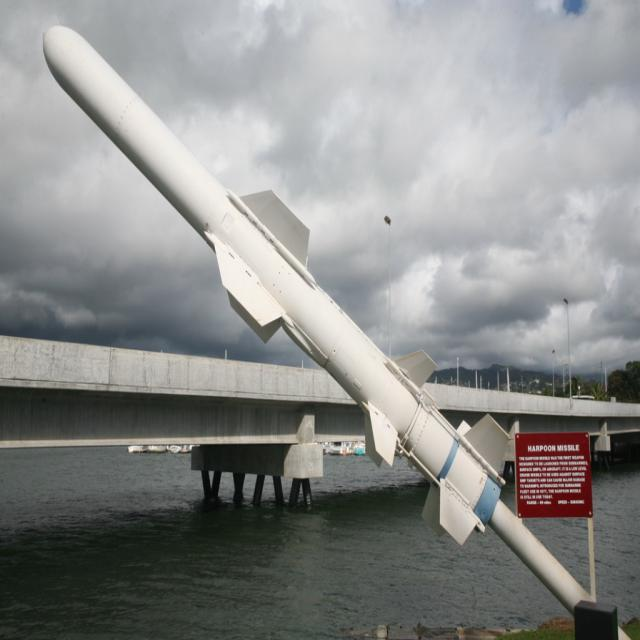rocket: (38, 19, 592, 607)
